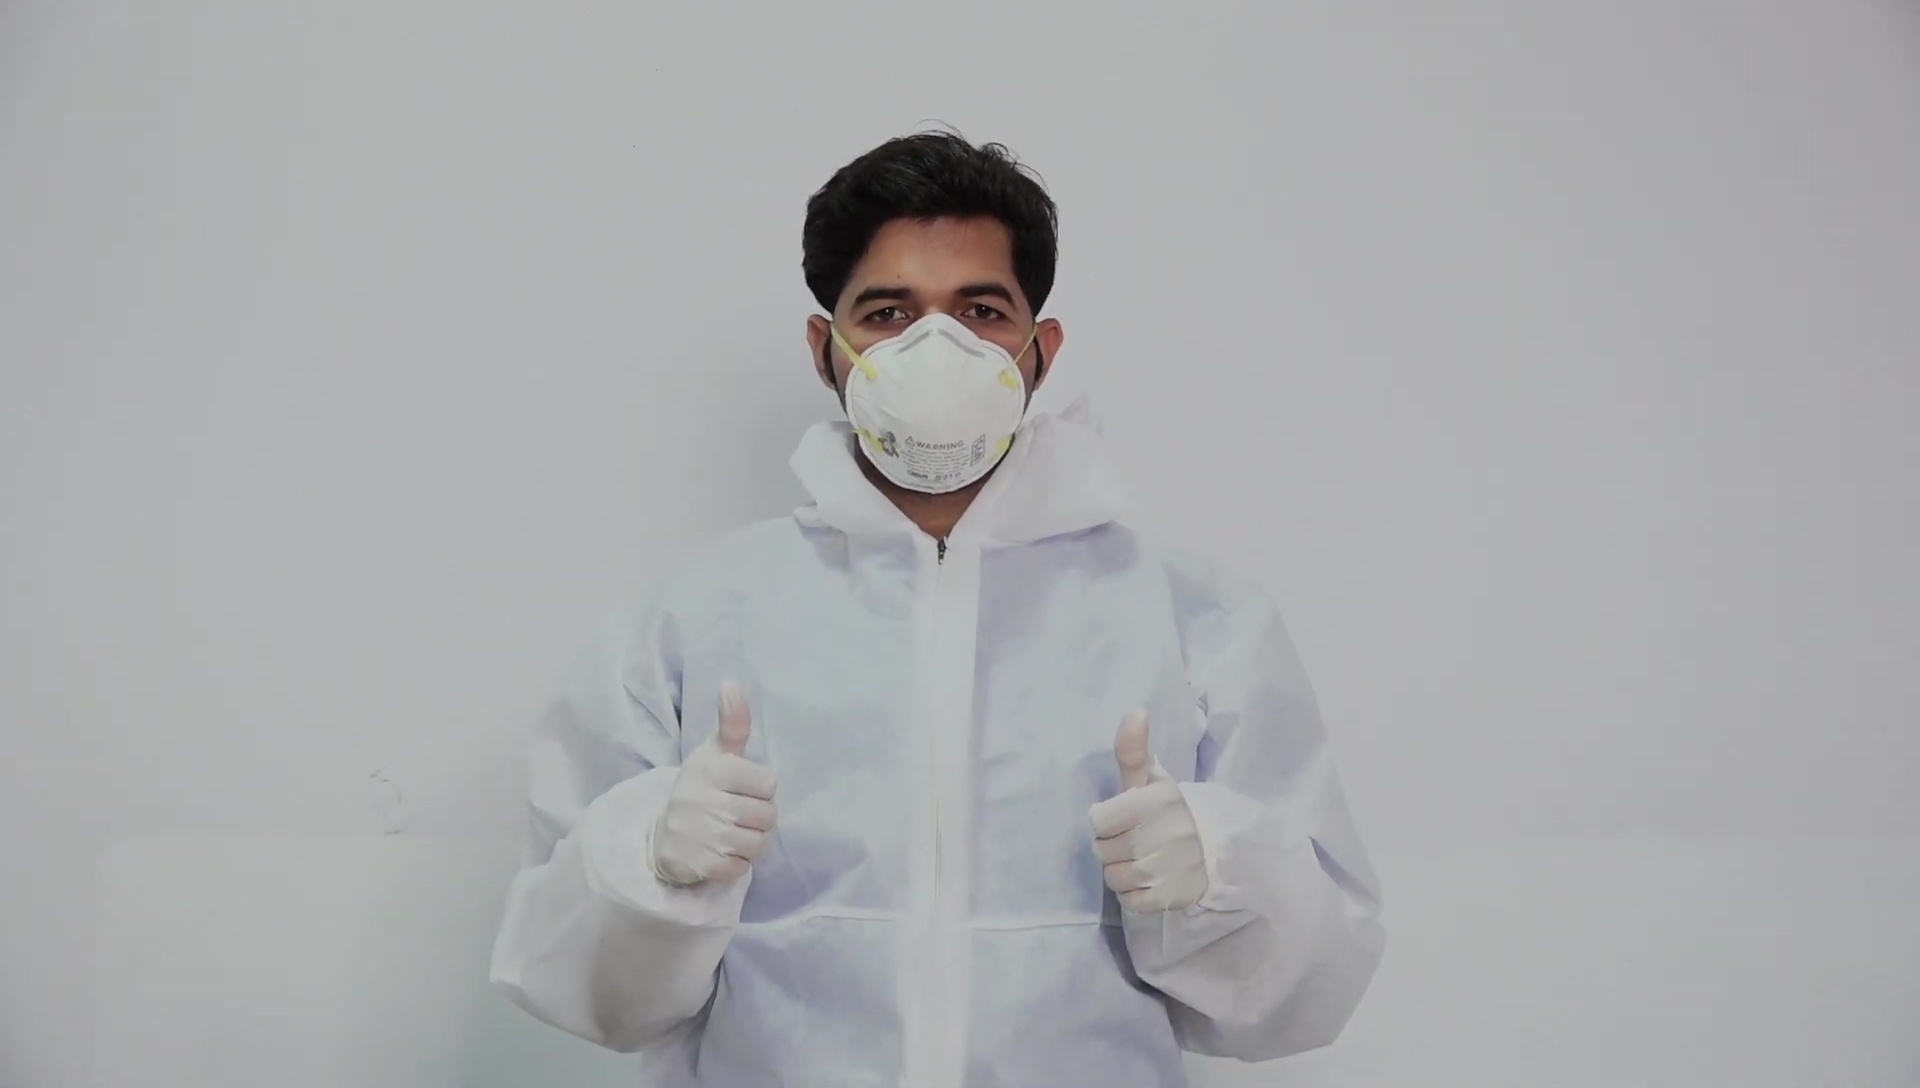Coverall: (488, 504, 1383, 1085)
Gloves: (1083, 705, 1211, 914), (656, 680, 776, 891)
with_mask: (844, 309, 1025, 495)
